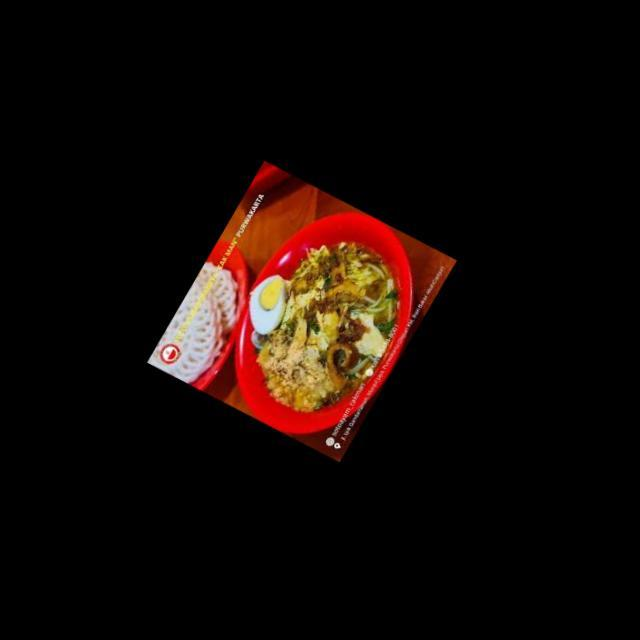Soto: (249, 238, 399, 413)
